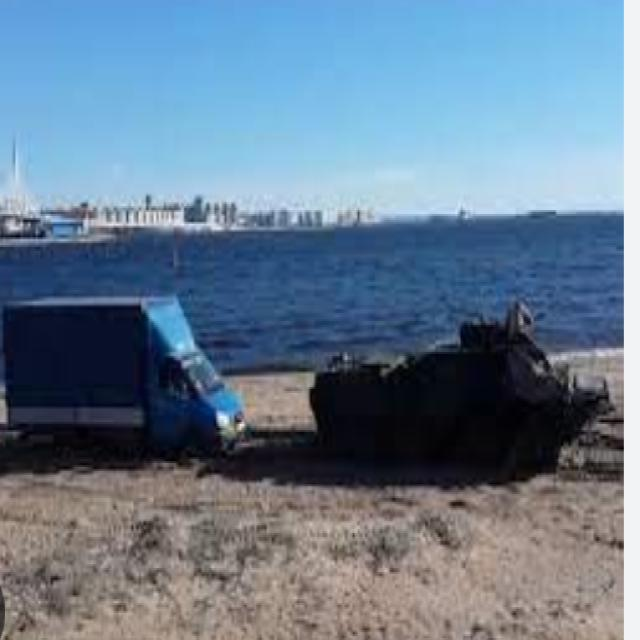MIL_APC: (294, 300, 622, 474)
